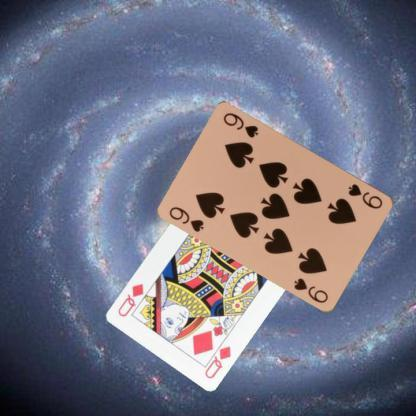9s: (166, 204, 206, 233), (346, 180, 384, 210)
Qd: (201, 336, 232, 380)
